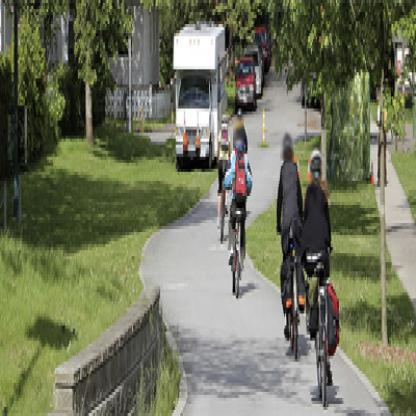Helmet: (308, 147, 331, 198), (277, 126, 298, 166), (217, 114, 230, 141), (233, 136, 247, 157), (234, 104, 246, 123)
